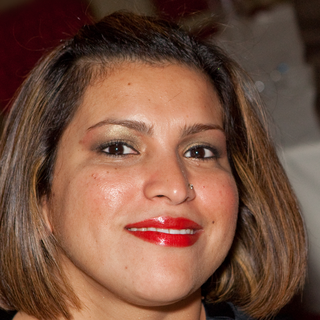eye: (92, 136, 143, 161), (173, 139, 220, 162)
